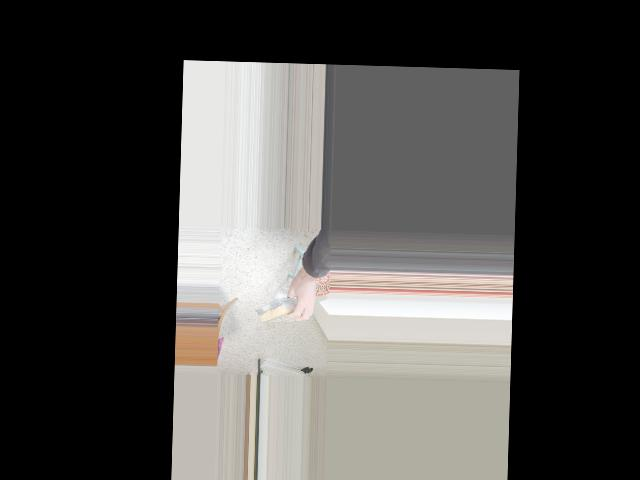cheese: (252, 294, 314, 324)
